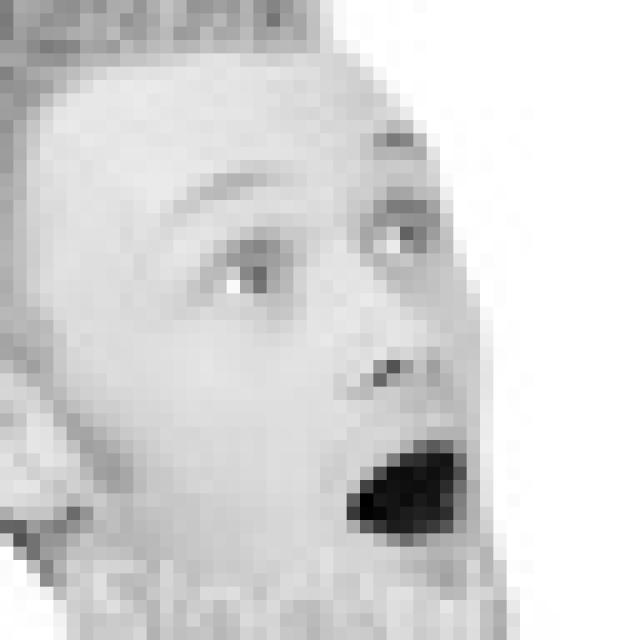surprise: (159, 123, 479, 574)
